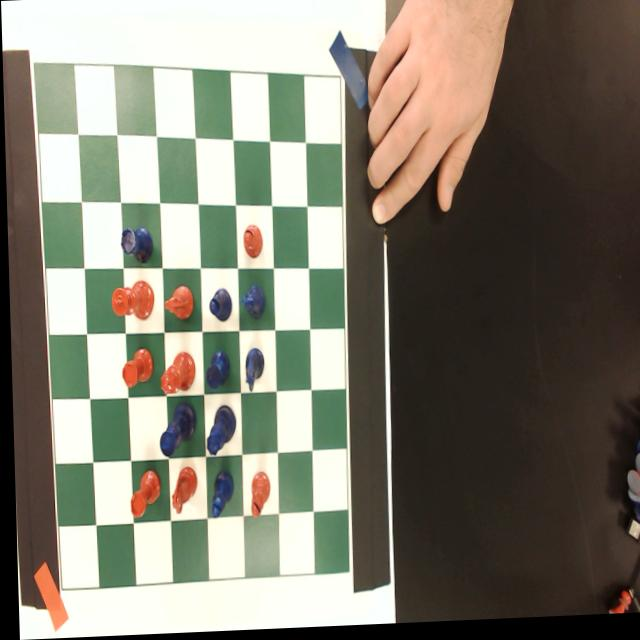B: (206, 466, 231, 522), (205, 285, 230, 326)
K: (153, 401, 195, 458)
N: (236, 281, 264, 325), (239, 348, 264, 393)
Q: (200, 401, 234, 458)
R: (118, 225, 152, 266), (200, 353, 229, 391)
b: (246, 470, 268, 521), (239, 224, 262, 263)
k: (108, 278, 153, 322)
n: (164, 466, 196, 518), (160, 284, 193, 321)
q: (156, 352, 193, 397)
r: (123, 468, 159, 521), (118, 348, 151, 390)
